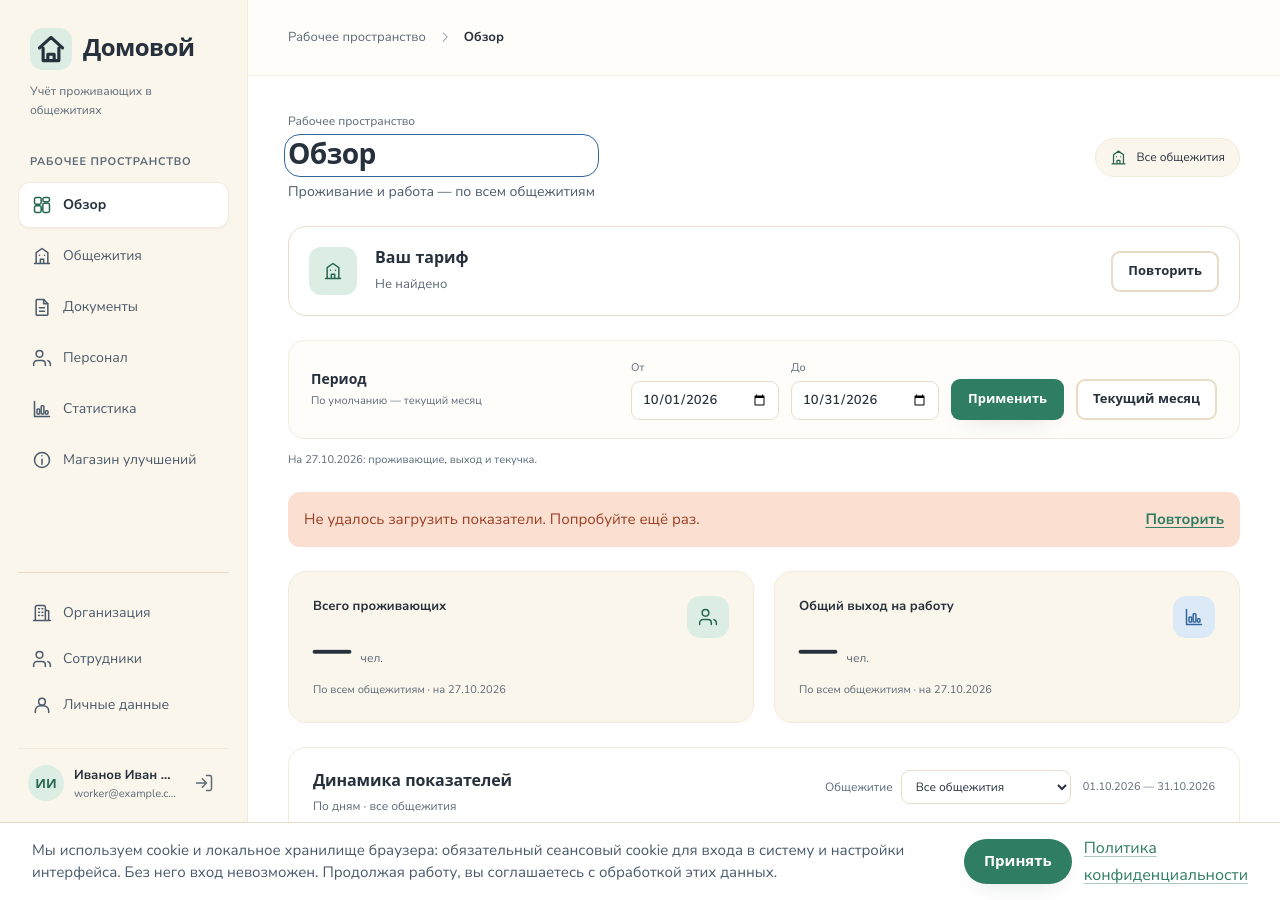
it: защищённый маршрут /cabinet › выход сбрасывает доступ и уводит на /login
Click the button with test id "logout-button" at (204, 783), box [189,768,219,798]
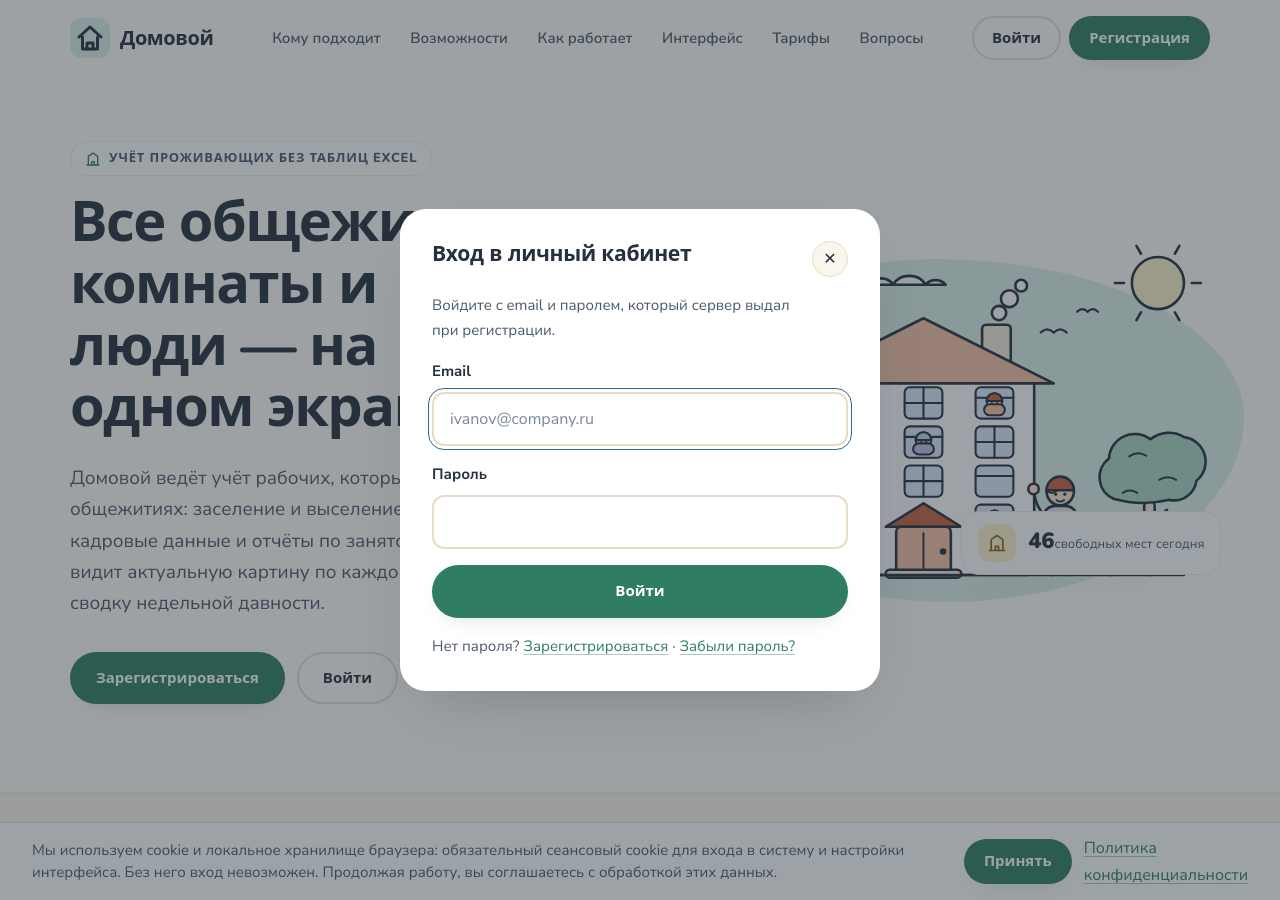
Expected: the button with test id "login-submit" is shown, [432,565,848,618]
